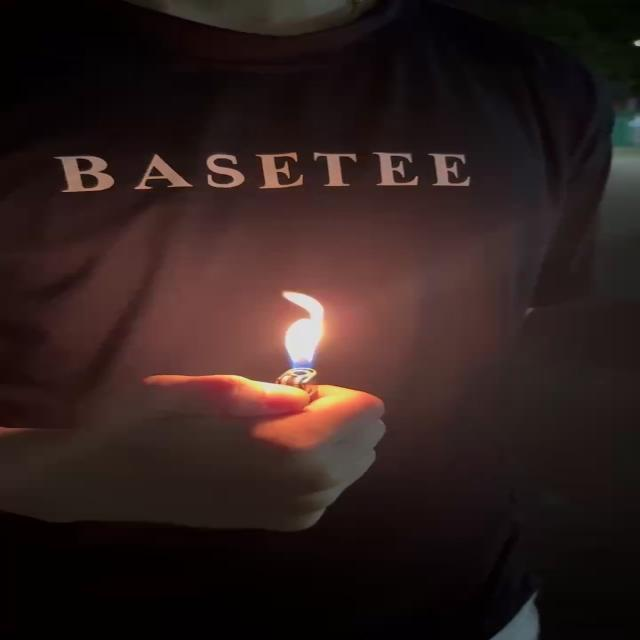Fire: (282, 289, 329, 380)
